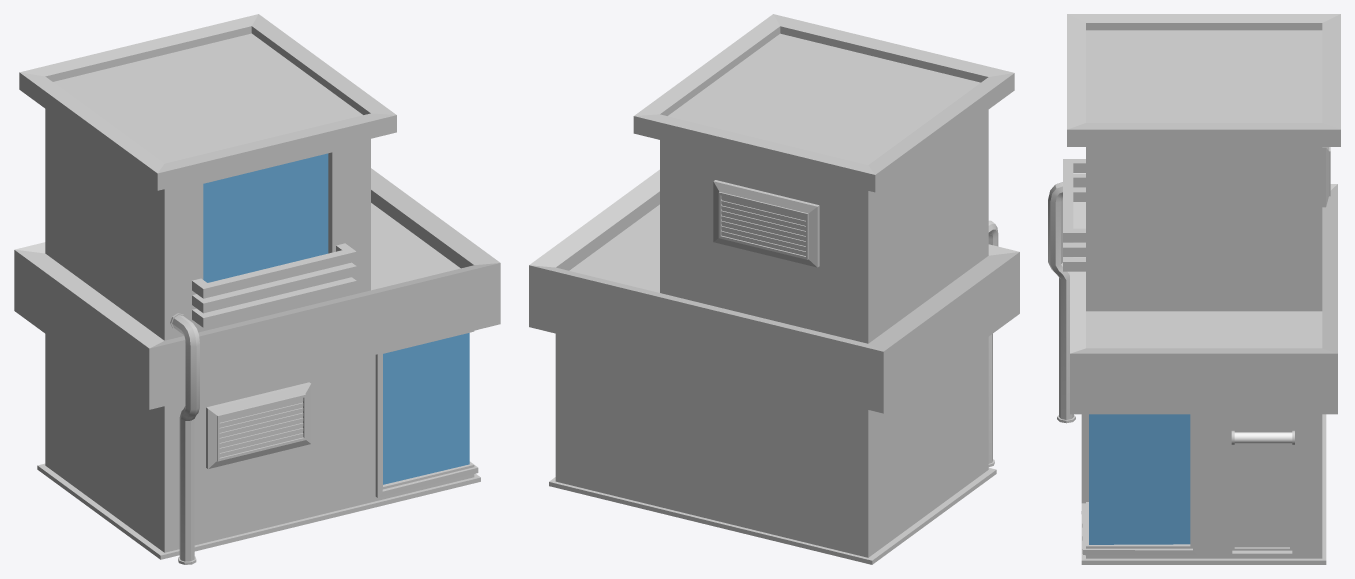
Rendered from bar_building.glb.
3 views of the same model, side by side, from view 1: azimuth 30°, elevation 25°; view 2: azimuth 150°, elevation 25°; view 3: azimuth 270°, elevation 25° (orthographic).
Parts seen in each view (by area): view 1: Building, VentPipes, Vent.001, Pipe; view 2: Building, Vent, Pipe; view 3: Building, Pipe, VentPipes, Lighttube, Vent.
Part boxes in pixels (x1,y1,x2,y2): Building: (14,14,500,559); VentPipes: (192,243,356,327); Vent.001: (206,382,311,468); Pipe: (170,313,199,564); Building: (529,14,1019,564); Vent: (713,180,819,267); Pipe: (988,220,998,466); Building: (1067,14,1340,564); Pipe: (1048,182,1085,423); VentPipes: (1063,159,1085,271); Lighttube: (1231,430,1294,445); Vent: (1322,147,1330,207).
Size of the model in its own units: 6.8 by 7.3 by 4.96.
